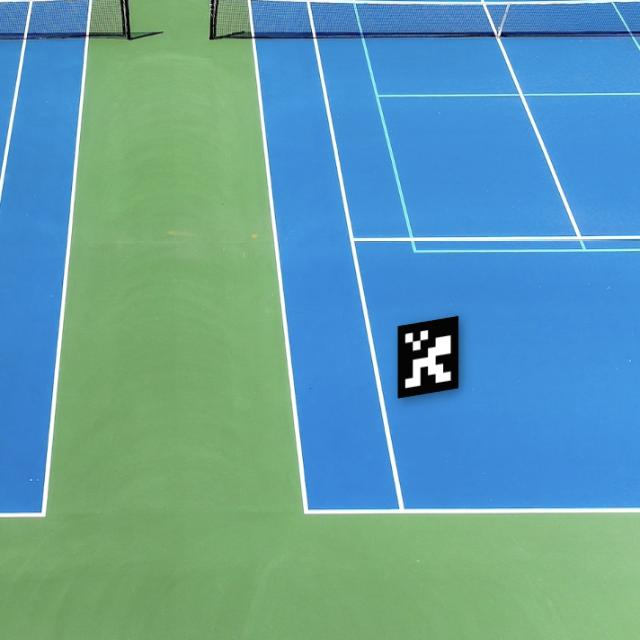marker: (392, 305, 471, 408)
